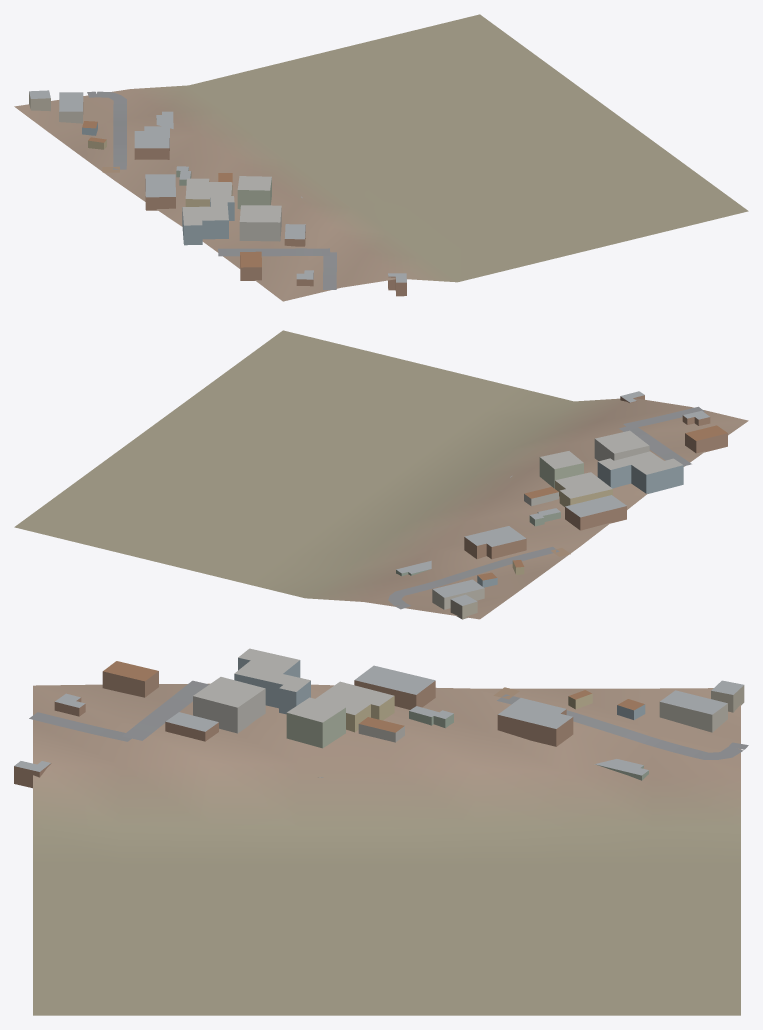
The picture shows the model from 3 angles, top to bottom: view 1: azimuth 30°, elevation 25°; view 2: azimuth 150°, elevation 25°; view 3: azimuth 270°, elevation 25°; orthographic projection. The views are drawn at different scales.
Parts seen in each view (by area): view 1: Lo; view 2: Lo; view 3: Lo.
Part boxes in pixels (x1,y1,x2,y2): Lo: [14, 14, 748, 301]; Lo: [14, 330, 748, 619]; Lo: [14, 648, 748, 1015].
Size of the model in its own units: 265 by 22.98 by 266.
